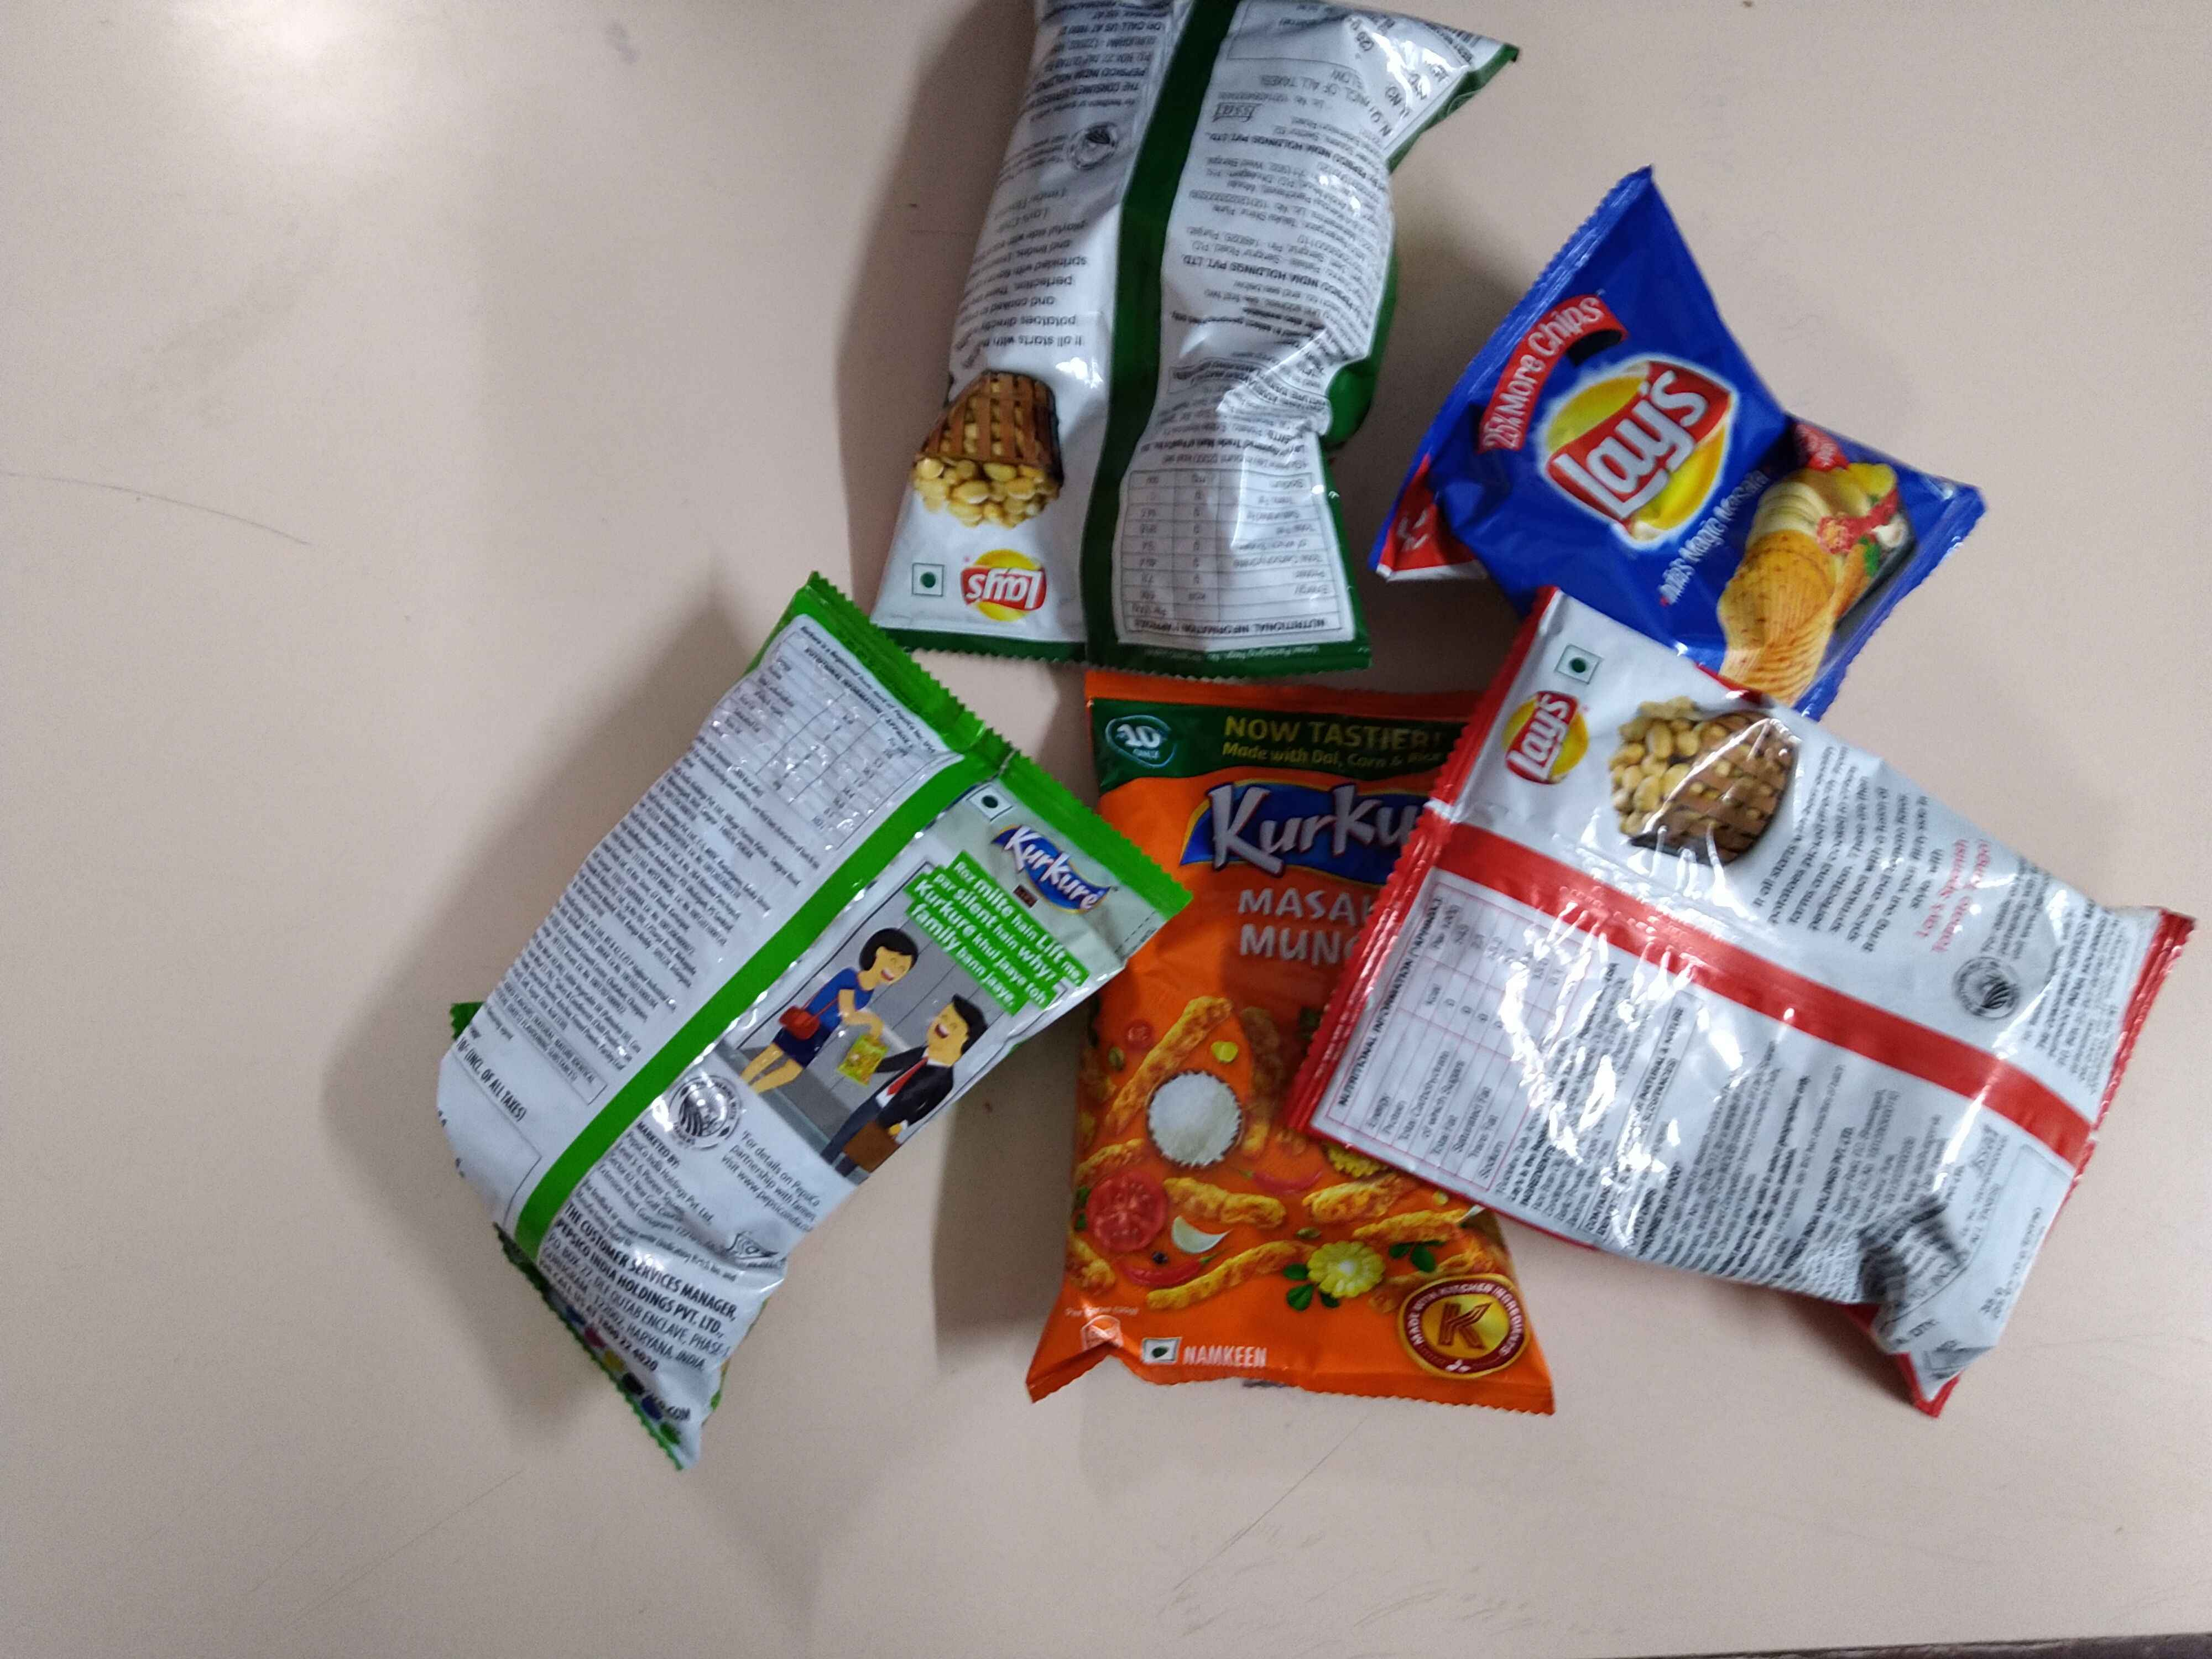Lays: (1500, 356, 1754, 528), (1487, 674, 1604, 795), (949, 542, 1057, 634)
kurkure: (1163, 777, 1430, 870), (977, 821, 1129, 924)
